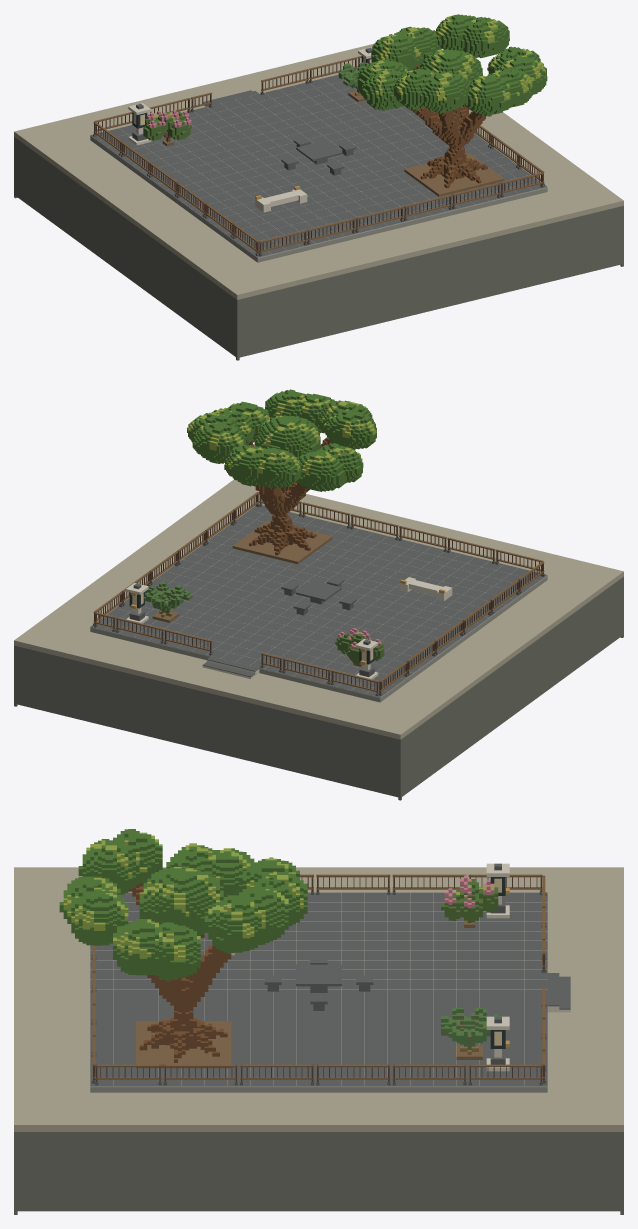
3 renders of one model, top to bottom at view 1: azimuth 30°, elevation 25°; view 2: azimuth 150°, elevation 25°; view 3: azimuth 270°, elevation 25°, orthographic. The views are drawn at different scales.
Parts seen in each view (by area): view 1: 连续岩土实体与最小原生岩块, 分层实心台基与独立石铺面, 阔叶分枝与开阔树冠母版, 贴地独立根域与表土, 分枝灌木与花灌木母版, 室外石桌与真实四石凳, 公共长椅与石凳母版, 独立景观灯杆与石灯母版; view 2: 连续岩土实体与最小原生岩块, 分层实心台基与独立石铺面, 阔叶分枝与开阔树冠母版, 贴地独立根域与表土, 独立景观灯杆与石灯母版 (×2), 室外石桌与真实四石凳, 蕨类与阔叶地被簇母版, 分枝灌木与花灌木母版, 实体山步与独立踏面, 公共长椅与石凳母版; view 3: 连续岩土实体与最小原生岩块, 分层实心台基与独立石铺面, 阔叶分枝与开阔树冠母版, 廊边木栏与实际竖梃 (×8), 贴地独立根域与表土, 室外石桌与真实四石凳, 独立景观灯杆与石灯母版 (×2), 分枝灌木与花灌木母版, 蕨类与阔叶地被簇母版, 实体山步与独立踏面.
Part boxes in pixels (x1=…): 连续岩土实体与最小原生岩块: x1=14, y1=43, x2=623, y2=360; 分层实心台基与独立石铺面: x1=90, y1=74, x2=547, y2=262; 阔叶分枝与开阔树冠母版: x1=357, y1=14, x2=547, y2=188; 贴地独立根域与表土: x1=404, y1=153, x2=504, y2=196; 分枝灌木与花灌木母版: x1=143, y1=110, x2=191, y2=141; 室外石桌与真实四石凳: x1=281, y1=137, x2=356, y2=175; 公共长椅与石凳母版: x1=255, y1=186, x2=307, y2=212; 独立景观灯杆与石灯母版: x1=128, y1=103, x2=151, y2=145; 连续岩土实体与最小原生岩块: x1=14, y1=479, x2=623, y2=800; 分层实心台基与独立石铺面: x1=90, y1=505, x2=547, y2=702; 阔叶分枝与开阔树冠母版: x1=187, y1=389, x2=376, y2=555; 贴地独立根域与表土: x1=232, y1=520, x2=332, y2=564; 独立景观灯杆与石灯母版 (×2): x1=126, y1=583, x2=378, y2=679; 室外石桌与真实四石凳: x1=281, y1=577, x2=356, y2=615; 蕨类与阔叶地被簇母版: x1=143, y1=581, x2=192, y2=617; 分枝灌木与花灌木母版: x1=335, y1=628, x2=384, y2=664; 实体山步与独立踏面: x1=202, y1=656, x2=259, y2=678; 公共长椅与石凳母版: x1=400, y1=577, x2=452, y2=601; 连续岩土实体与最小原生岩块: x1=14, y1=867, x2=623, y2=1214; 分层实心台基与独立石铺面: x1=90, y1=892, x2=547, y2=1092; 阔叶分枝与开阔树冠母版: x1=59, y1=829, x2=307, y2=1062; 廊边木栏与实际竖梃 (×8): x1=95, y1=874, x2=542, y2=1085; 贴地独立根域与表土: x1=136, y1=1021, x2=231, y2=1068; 室外石桌与真实四石凳: x1=264, y1=956, x2=373, y2=1010; 独立景观灯杆与石灯母版 (×2): x1=486, y1=863, x2=509, y2=1071; 分枝灌木与花灌木母版: x1=441, y1=875, x2=498, y2=922; 蕨类与阔叶地被簇母版: x1=441, y1=1008, x2=501, y2=1054; 实体山步与独立踏面: x1=547, y1=973, x2=570, y2=1012.
Size of the model in its own units: 32 by 15.8 by 32.
22 materials, 22 textured.
